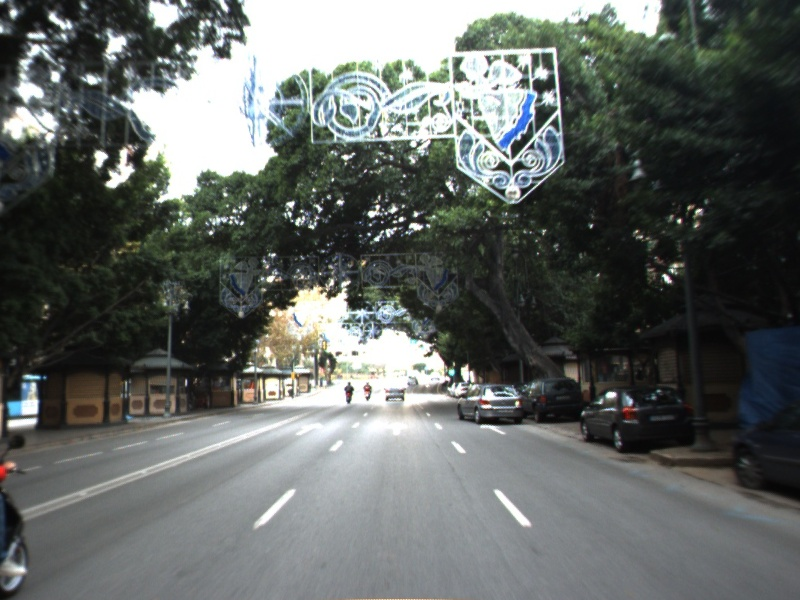STRAIGHT: (293, 420, 326, 437), (384, 419, 410, 437), (478, 422, 508, 436)
